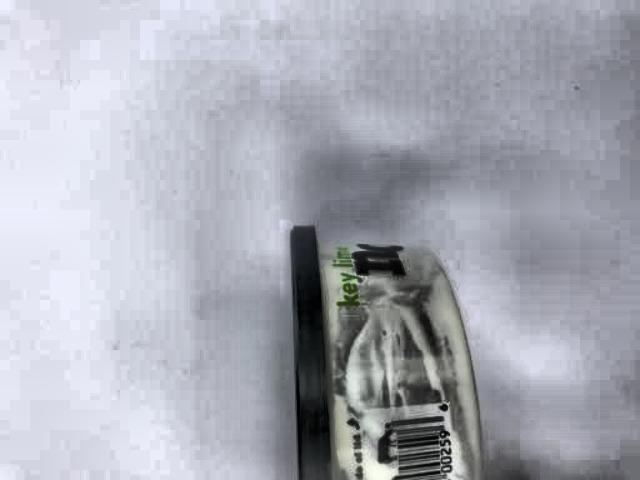Plastic: (284, 215, 494, 480)
